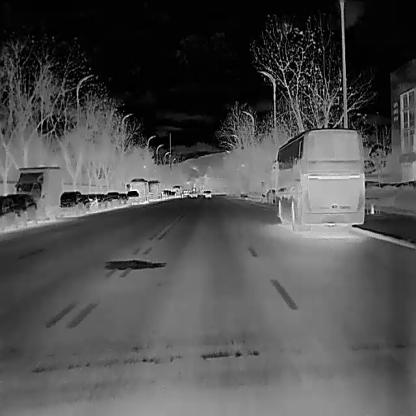bus: (270, 126, 364, 232), (126, 176, 148, 203), (147, 178, 162, 201), (171, 184, 183, 198)
car: (8, 192, 37, 226), (59, 189, 82, 217), (0, 194, 16, 231), (79, 193, 90, 213), (106, 191, 120, 206), (88, 194, 99, 212), (96, 192, 106, 210), (126, 190, 139, 203), (118, 192, 129, 204), (204, 188, 212, 198)
truck: (14, 166, 60, 223)
